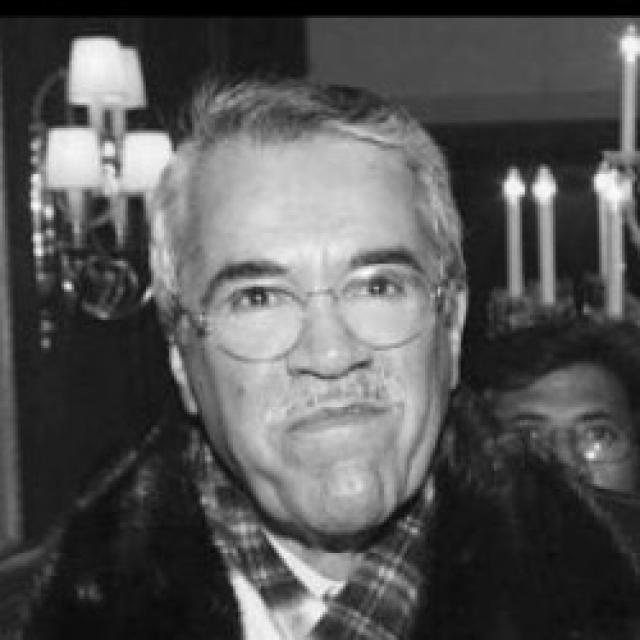real: (108, 100, 446, 499), (205, 252, 429, 339)
